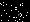person: (20, 10, 27, 20)
